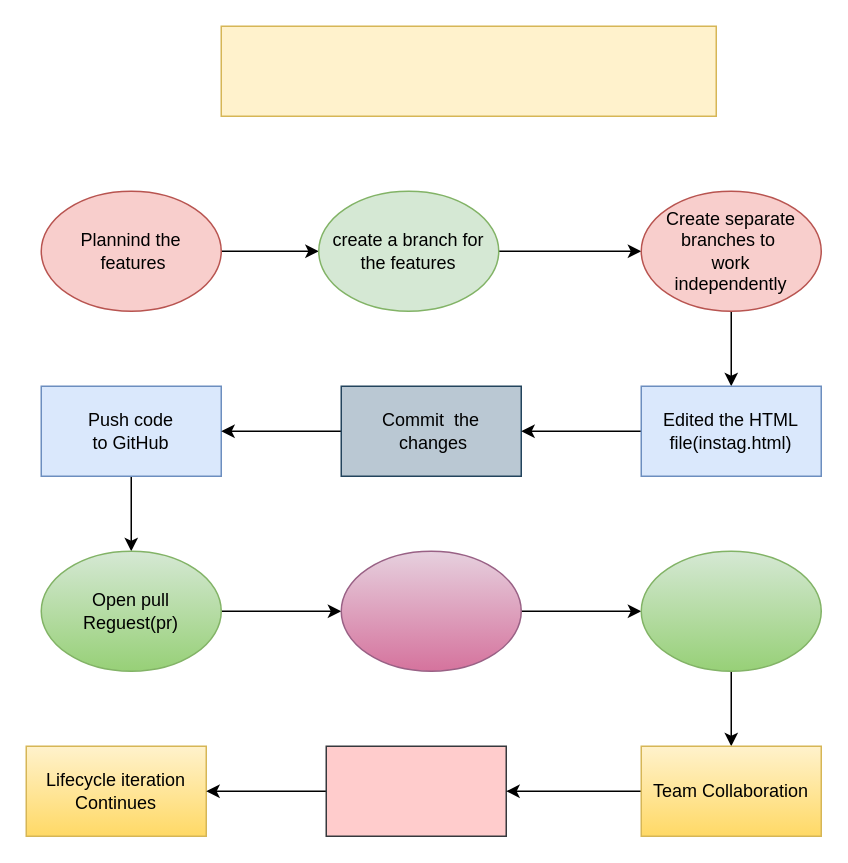
The diagram is 848 pixels wide and 863 high, and some of its shapes have lost their labels. The shapes that lost their labels are listed below. From the top down, each one's centre as x and y in pixels, then its label:
the point at 468,70: DevOps lifecycle (wed application project
the point at 430,610: Triggered CI Workflows
the point at 730,610: CI pipelineRan status Checks
the point at 415,790: comments for the html code
